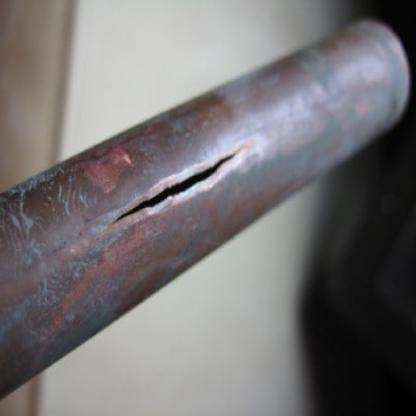burst: (107, 148, 251, 230)
